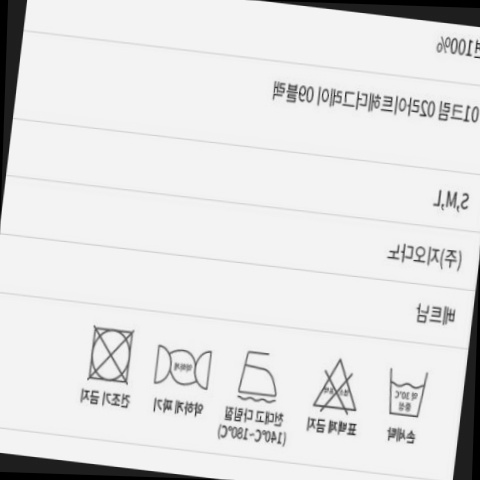30C: (377, 360, 433, 421)
DN_tumble_dry: (79, 318, 142, 389)
iron: (146, 337, 219, 392), (230, 340, 289, 406)
non_chlorine_bleach: (304, 349, 366, 418)
